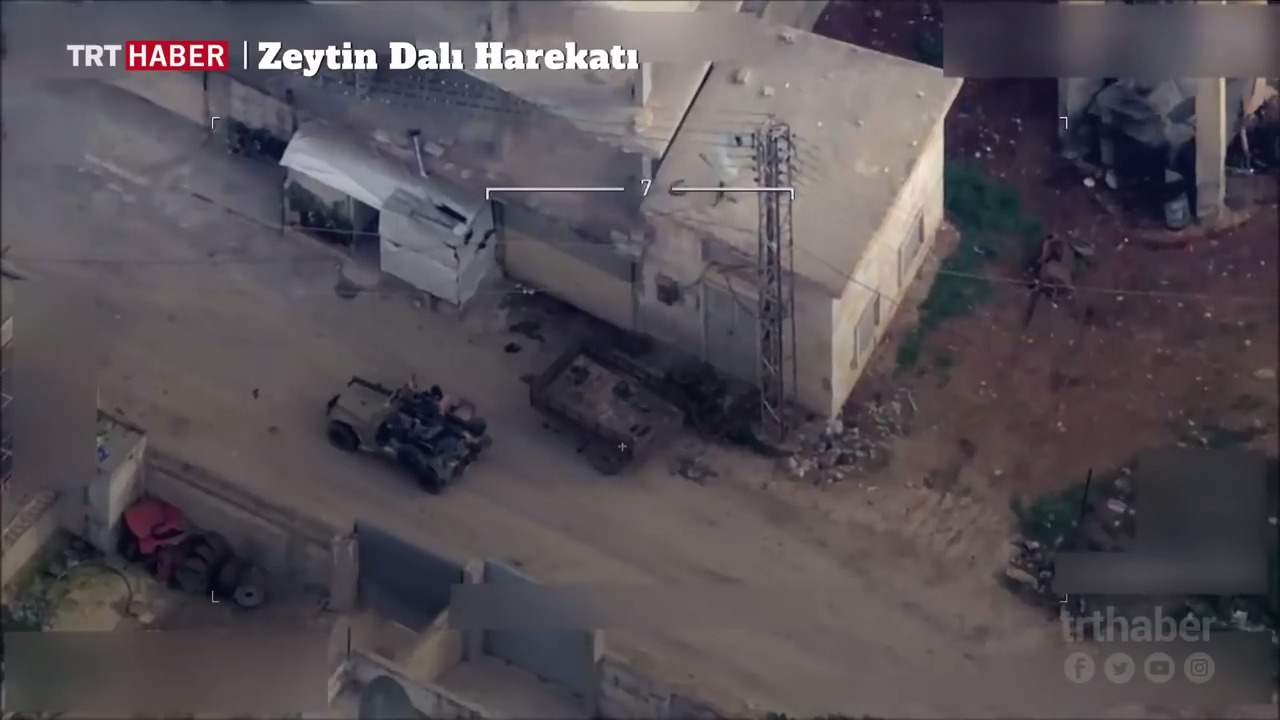arac: (325, 355, 504, 497)
bina: (630, 35, 1021, 415)
